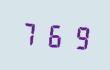nine: (67, 20, 90, 52)
seven: (18, 17, 41, 49)
six: (43, 19, 66, 50)
